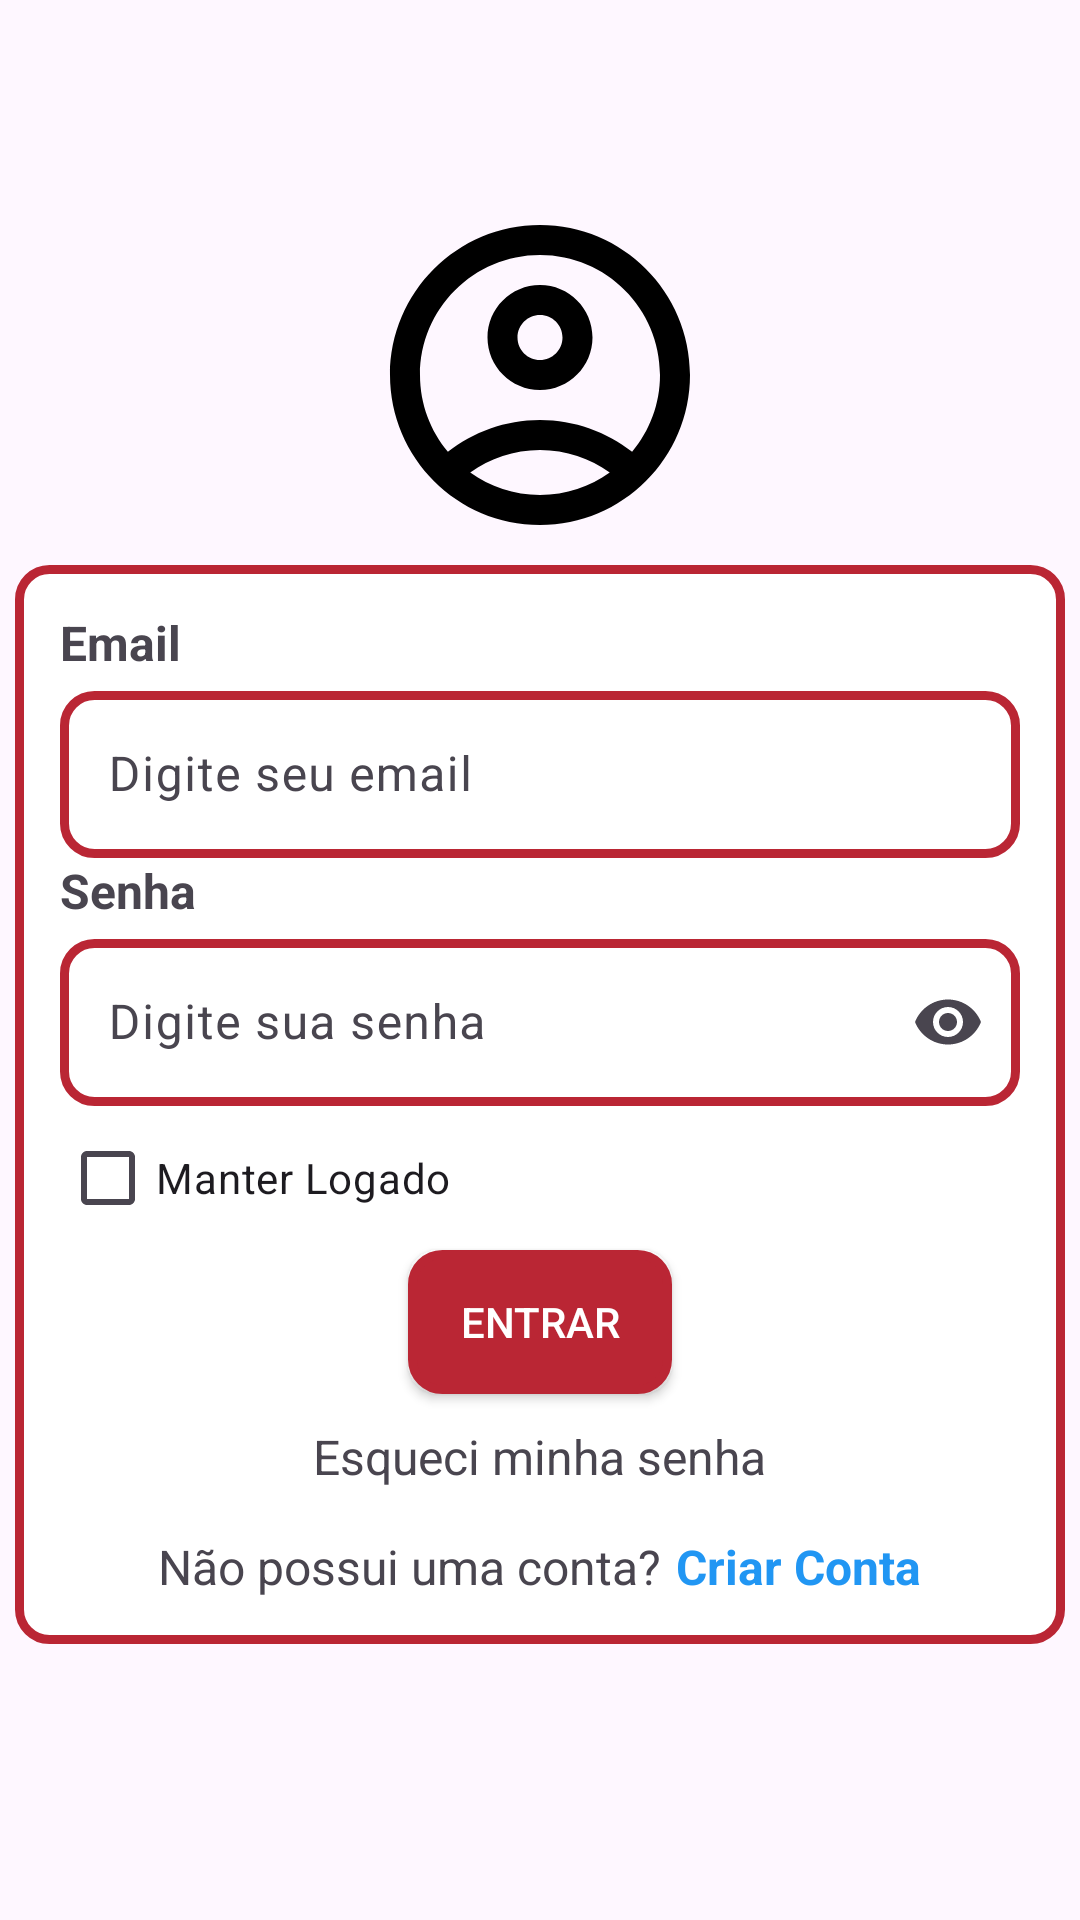

Screen size 1080 × 1920. Icon name, then its box in pixels as [x1, y1, x2, y2]:
Ícone de usuário: [390, 225, 690, 525]
